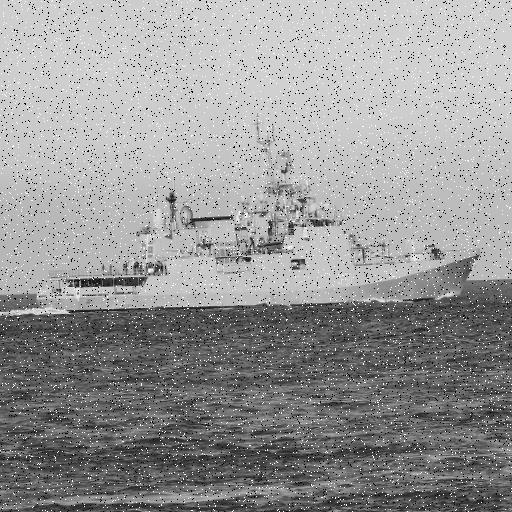Fragata: (30, 99, 483, 319)
